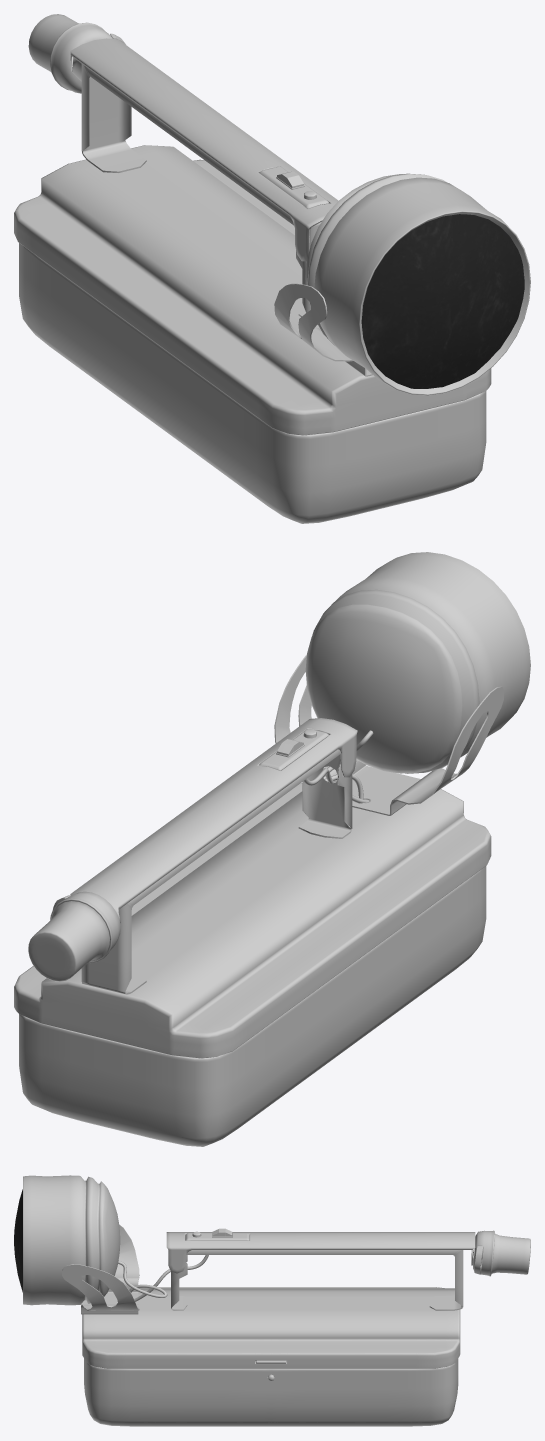
The model's file is vintage_flashlight.obj.
The picture shows the model from 3 angles, top to bottom: view 1: azimuth 30°, elevation 25°; view 2: azimuth 150°, elevation 25°; view 3: azimuth 270°, elevation 25°; orthographic projection. The views are drawn at different scales.
Parts seen in each view (by area): view 1: vintage_flashlight_0, vintage_flashlight_1; view 2: vintage_flashlight_0; view 3: vintage_flashlight_0, vintage_flashlight_1.
Part boxes in pixels (bbox=[...]): vintage_flashlight_0: bbox=[14, 14, 530, 523]; vintage_flashlight_1: bbox=[361, 214, 524, 388]; vintage_flashlight_0: bbox=[14, 552, 530, 1146]; vintage_flashlight_0: bbox=[23, 1175, 530, 1426]; vintage_flashlight_1: bbox=[14, 1189, 22, 1292].
Size of the model in its own units: 0.0959 by 0.1443 by 0.3055.
